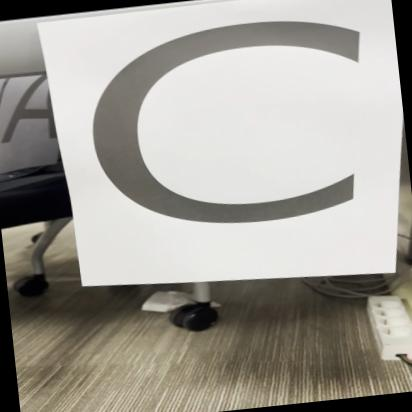seat: (26, 0, 412, 306)
